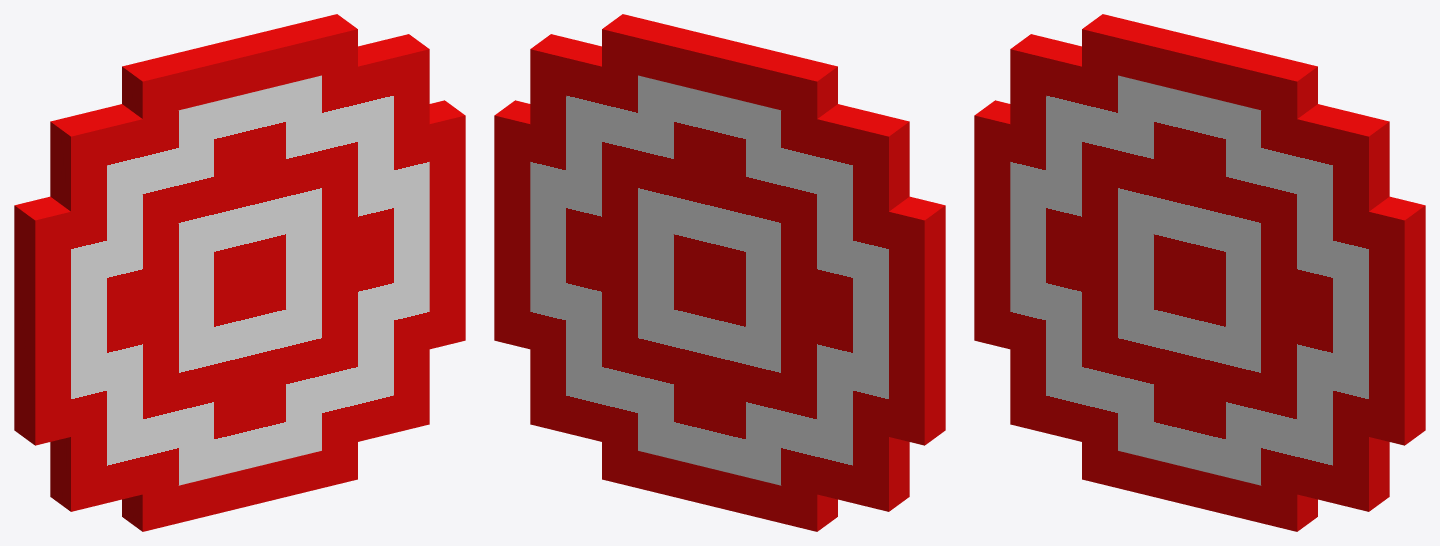
File: Target.obj
The picture shows the model from 3 angles, left to right: view 1: azimuth 30°, elevation 25°; view 2: azimuth 150°, elevation 25°; view 3: azimuth 330°, elevation 25°; orthographic projection.
Parts seen in each view (by area): view 1: cube; view 2: cube; view 3: cube.
Part boxes in pixels (x1,y1,x2,y2): cube: (14, 14, 465, 531); cube: (494, 14, 945, 531); cube: (974, 14, 1425, 531).
Size of the model in its own units: 0.75 by 0.75 by 0.0625.
Materials: 1 (1 with a texture image).
